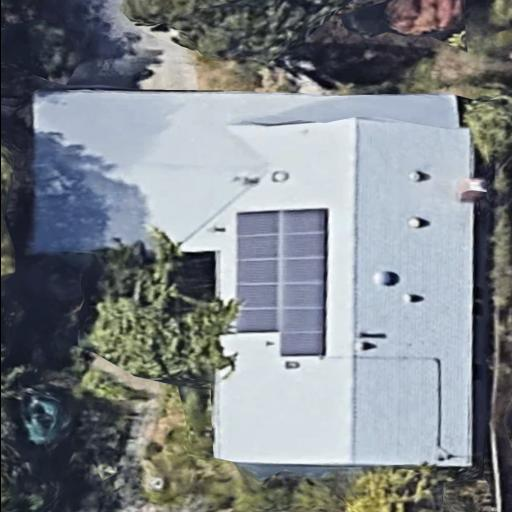Solar-Slope-Roof: (29, 92, 474, 467)
